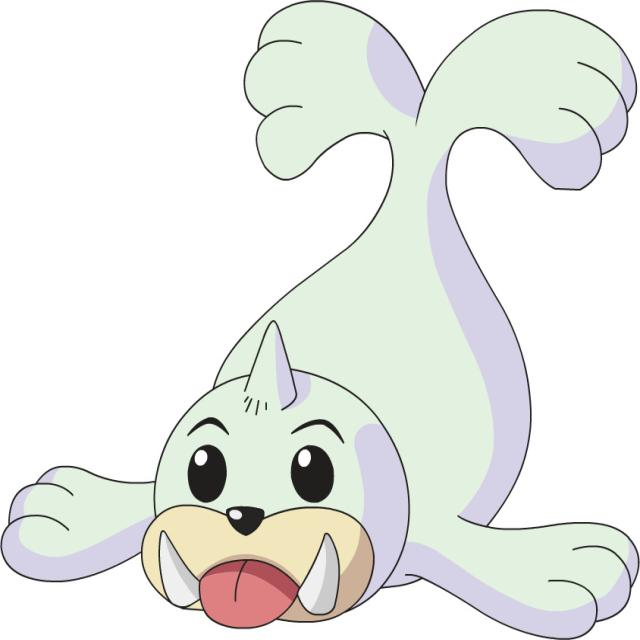Seel: (138, 0, 552, 628)
